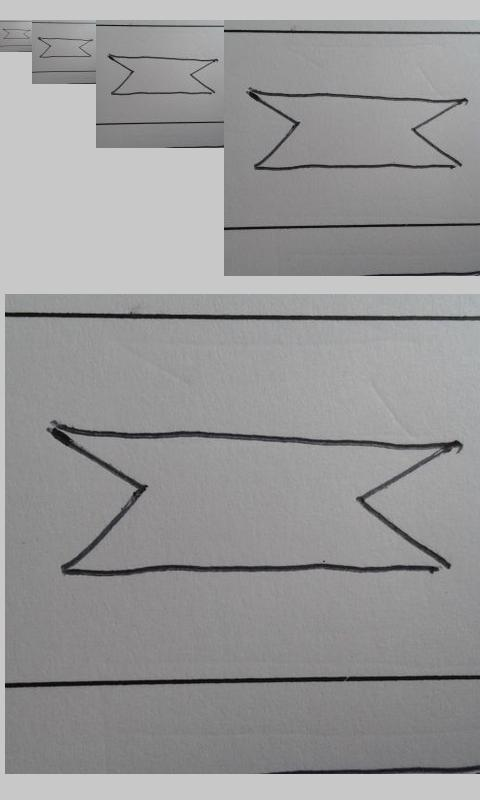edit_text: (47, 422, 452, 581), (245, 89, 464, 174), (108, 55, 217, 95), (37, 37, 92, 59), (2, 28, 30, 40)
